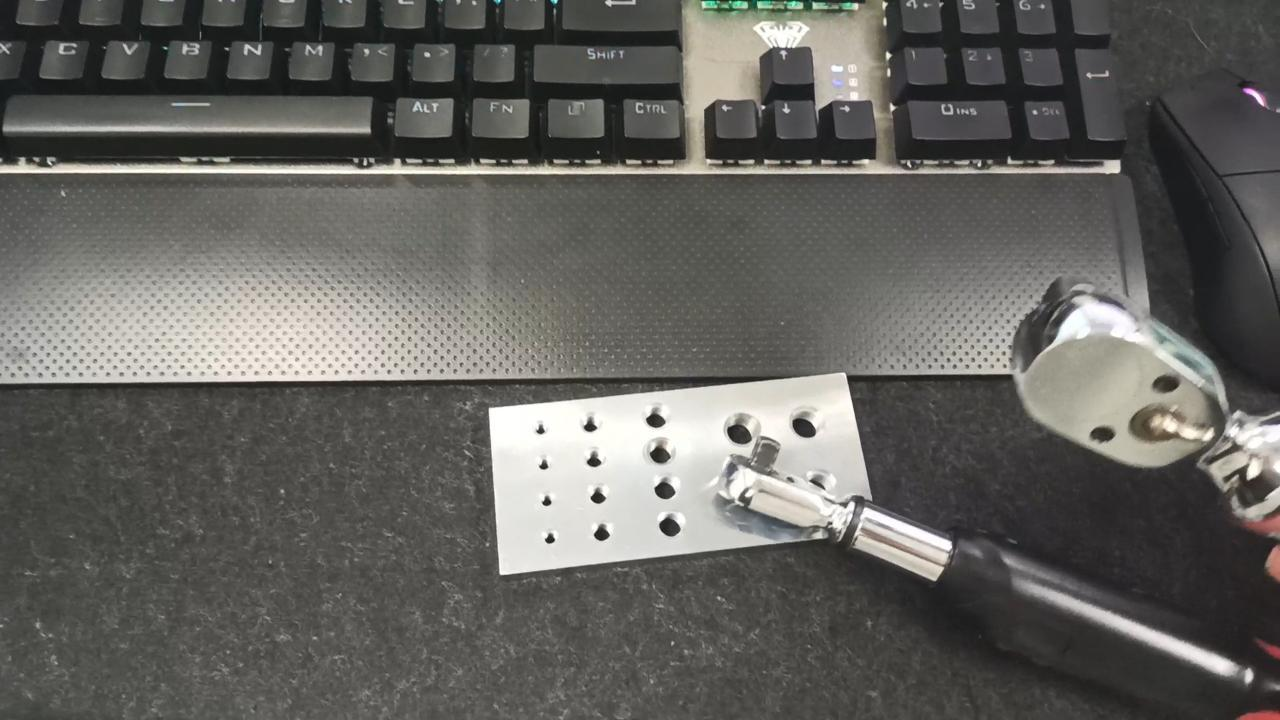Tool: (1010, 294, 1280, 516), (716, 434, 850, 538)
